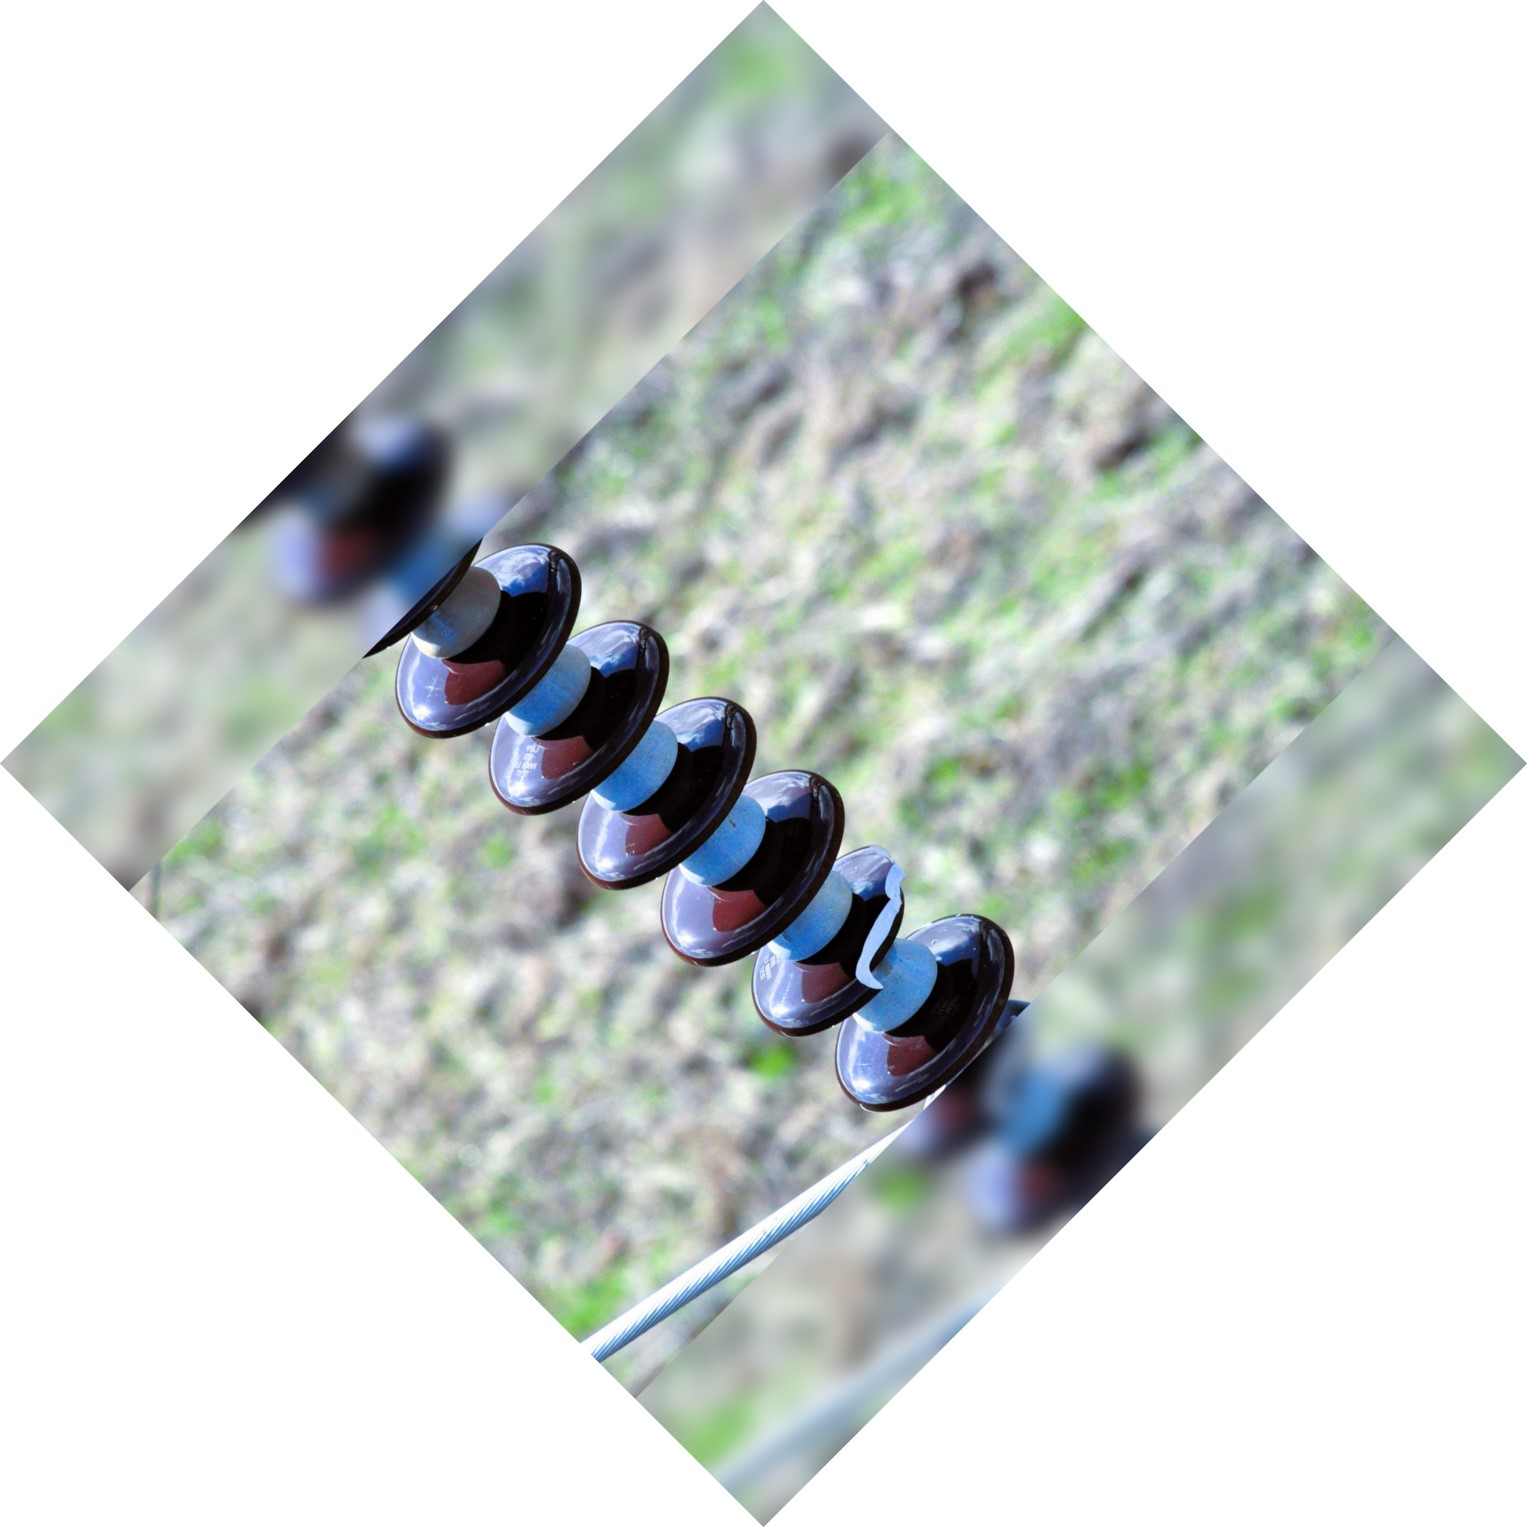insulator breakage: (745, 839, 929, 1031)
